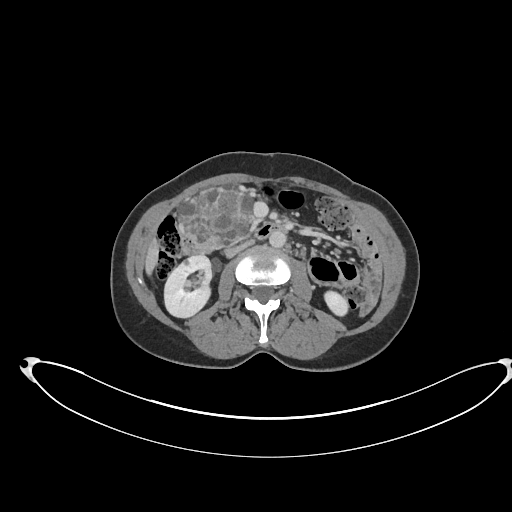Lesion: (183, 257, 191, 267)
